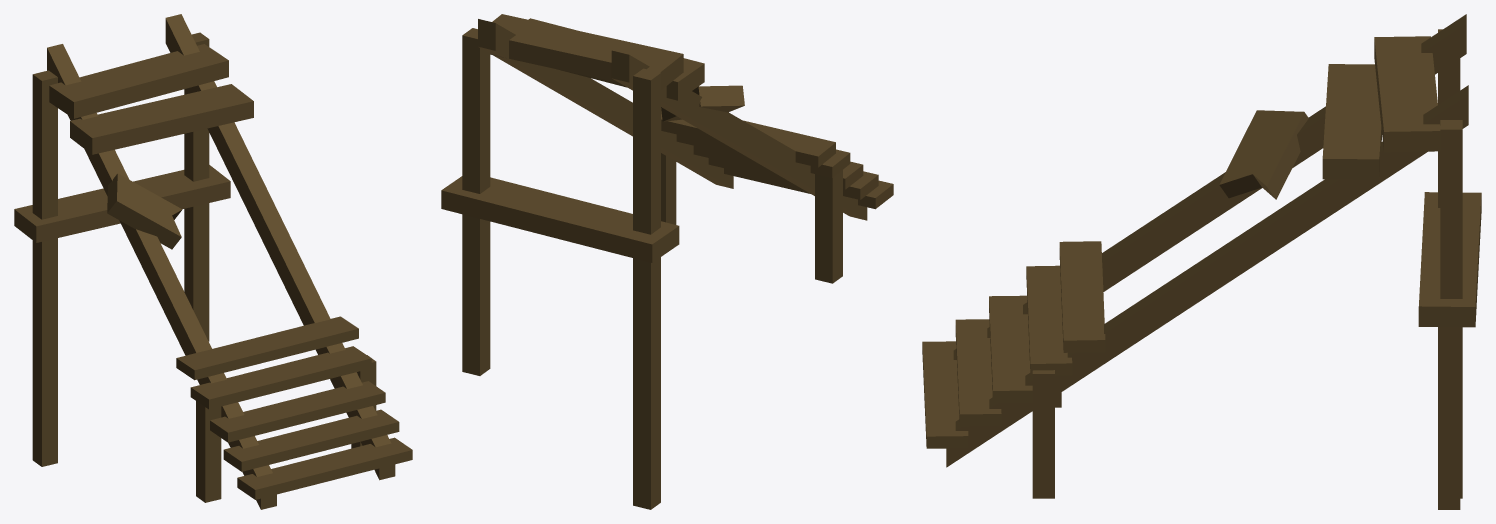
File: DarkWoodStepsMediumStairwayBroken1.fbx
3 renders of one model, left to right at view 1: azimuth 30°, elevation 25°; view 2: azimuth 150°, elevation 25°; view 3: azimuth 270°, elevation 25°, orthographic. The views are drawn at different scales.
Parts seen in each view (by area): view 1: DarkWoodStepsMediumStairwayBroken1; view 2: DarkWoodStepsMediumStairwayBroken1; view 3: DarkWoodStepsMediumStairwayBroken1.
Part boxes in pixels (box(x1,y1,x2,y2)): DarkWoodStepsMediumStairwayBroken1: box(14, 14, 412, 509); DarkWoodStepsMediumStairwayBroken1: box(441, 14, 893, 509); DarkWoodStepsMediumStairwayBroken1: box(922, 14, 1481, 509).
Bounding box in the file's own units: 363 × 731 × 746.
Materials: 1 (1 with a texture image).
